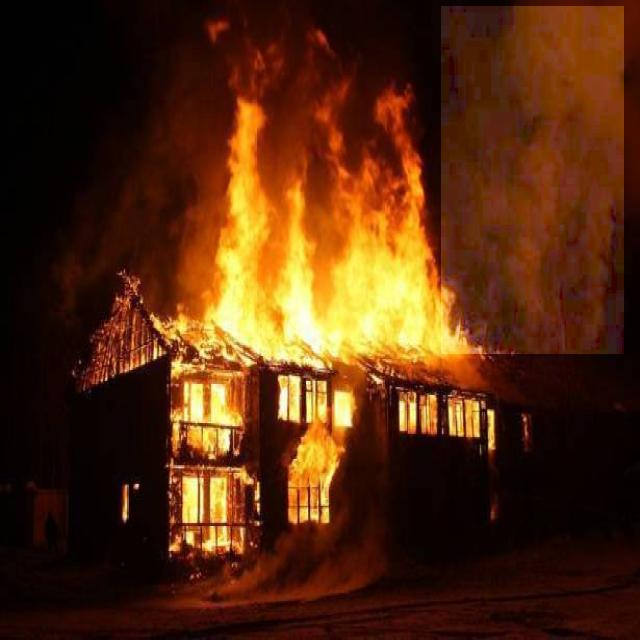Fire: (134, 38, 448, 550)
Smoke: (441, 6, 624, 354)
